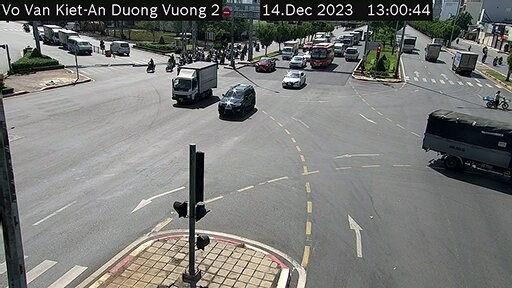car: (218, 84, 254, 119), (313, 43, 330, 70), (283, 70, 305, 88), (255, 58, 274, 73)
truck: (421, 102, 512, 189), (171, 56, 216, 110), (451, 48, 478, 76), (424, 43, 441, 66), (282, 42, 292, 58)
